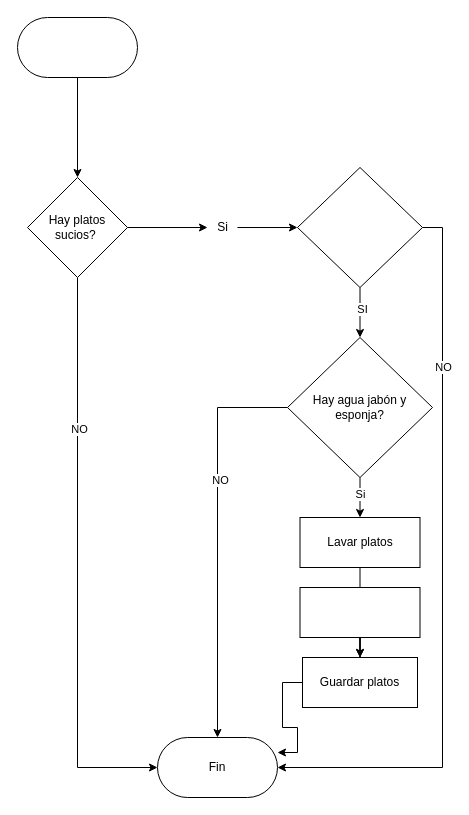
The diagram is 469 pixels wide and 815 high, and some of its shapes have lost their labels. Each missing label, with the centre of its shape:
"Inicio" belongs at (77,47).
"Quiero lavarlos ahora mismo?" belongs at (359,227).
"Secar los platos" belongs at (359,612).
